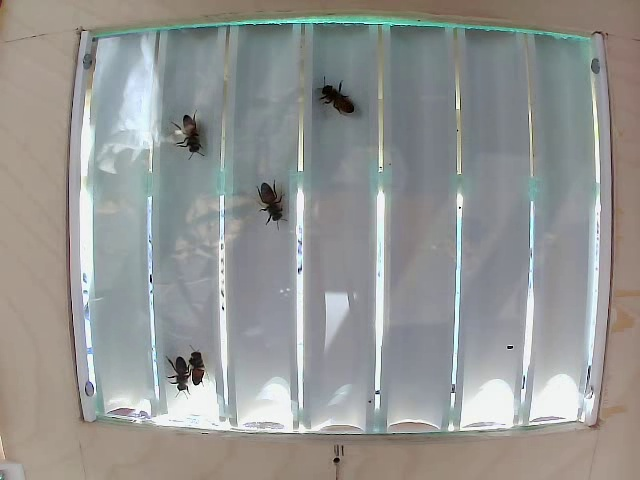bee: (165, 113, 218, 153), (316, 74, 357, 124), (252, 173, 285, 232), (193, 334, 223, 386), (161, 349, 190, 394)
